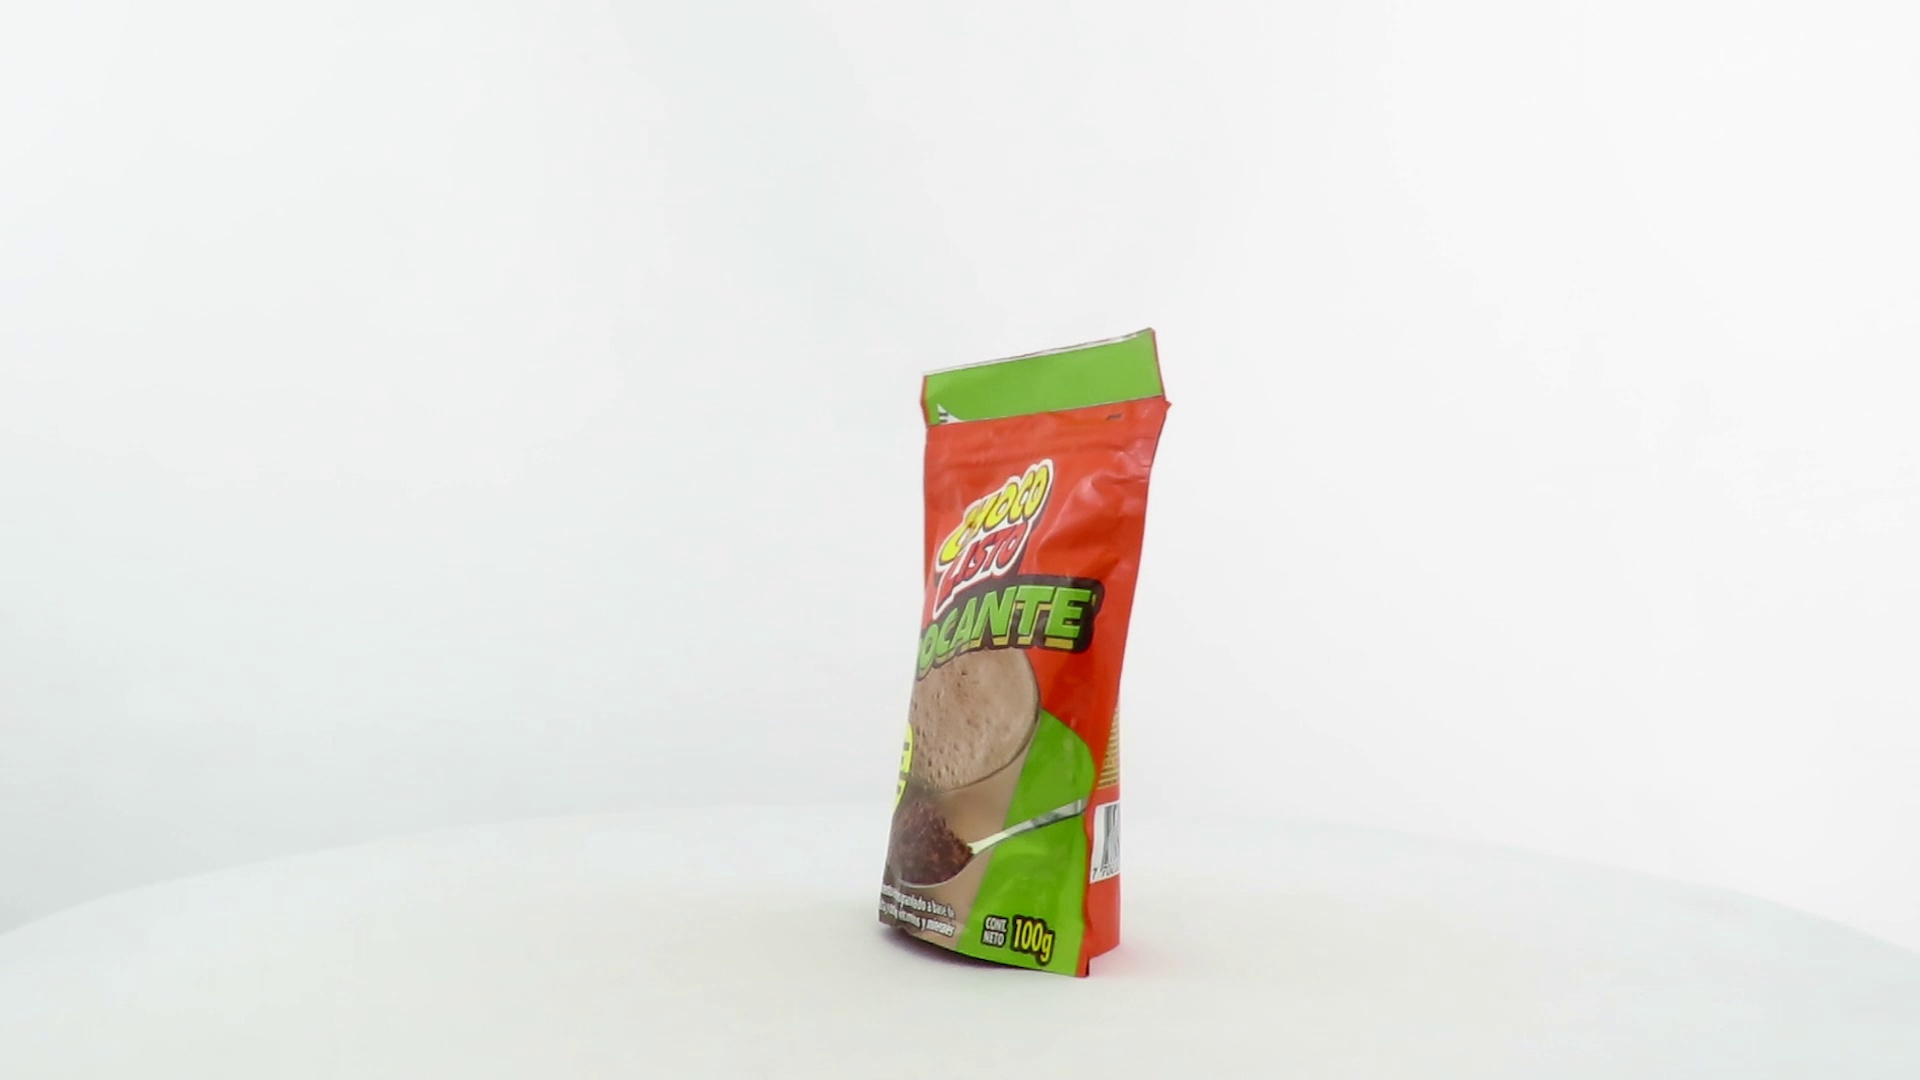COL0170102DYP10000: (873, 322, 1178, 985)
